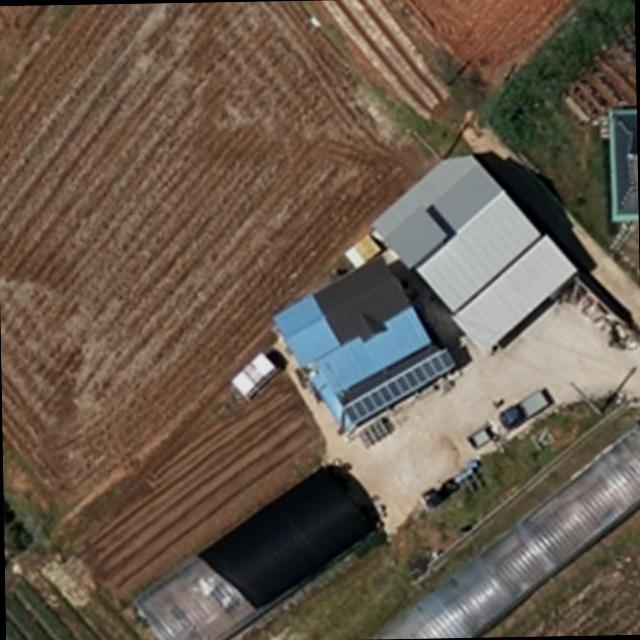solar: (342, 346, 459, 430)
